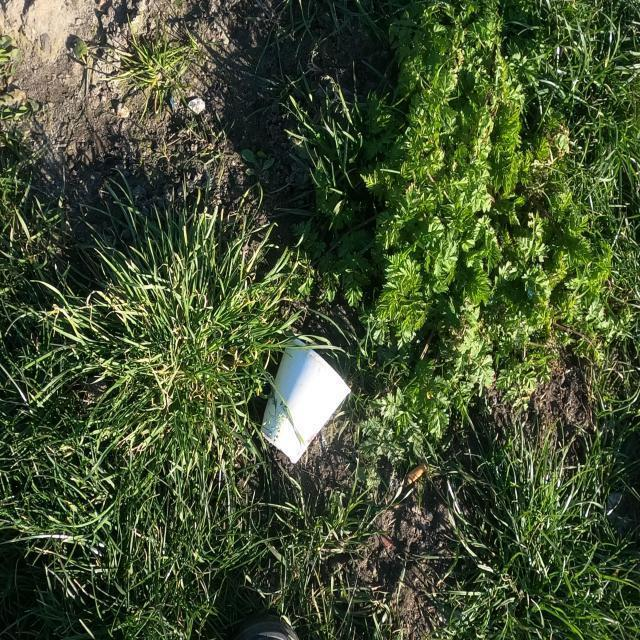Cup: (258, 334, 352, 466)
